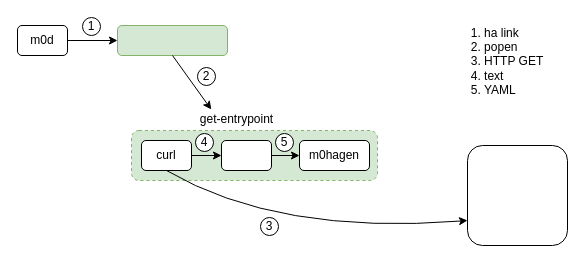
This 585x263 diagram has some shape labels left out. Here are the shapes that lost their labels. From the top down, the centre of each, then its label:
At (x=172, y=40): "m0ham --listen".
At (x=246, y=155): "awk".
At (x=517, y=195): "Consul".
